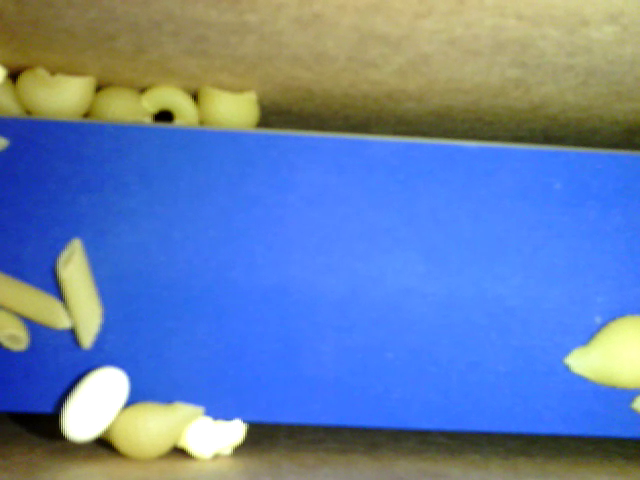elbow: (139, 80, 201, 127)
penne: (56, 234, 102, 350), (1, 270, 78, 330), (1, 309, 31, 353)
shell: (90, 401, 203, 460), (564, 311, 639, 391), (14, 66, 96, 118), (195, 80, 259, 130), (87, 83, 155, 124)
